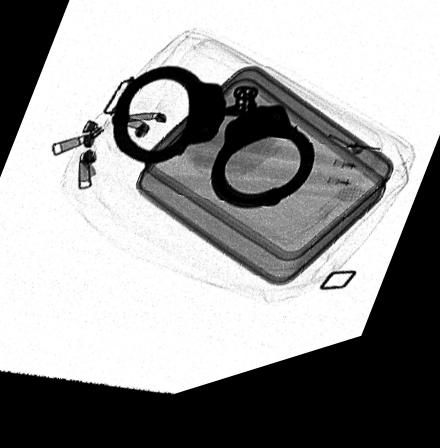HandCuffs: (111, 76, 314, 224)
